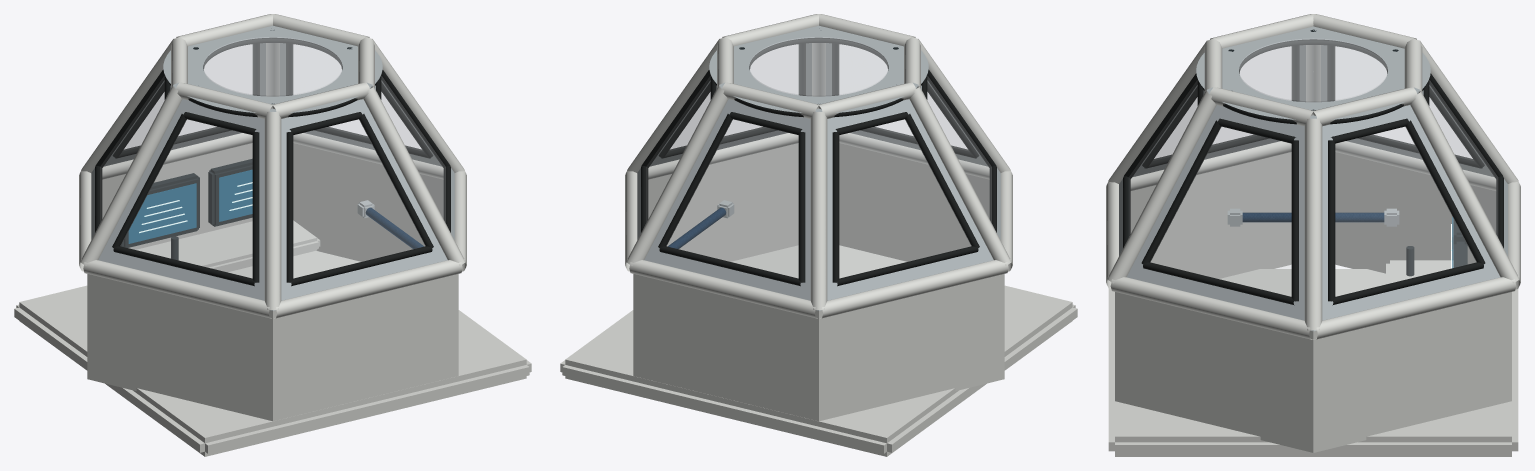
The model's file is cupola_optimized.glb.
The picture shows the model from 3 angles, left to right: view 1: azimuth 30°, elevation 25°; view 2: azimuth 150°, elevation 25°; view 3: azimuth 270°, elevation 25°; orthographic projection. The views are drawn at different scales.
Parts seen in each view (by area): view 1: cupola_interior; view 2: cupola_interior; view 3: cupola_interior.
Part boxes in pixels (x1,y1,x2,y2): cupola_interior: (14, 14, 531, 456); cupola_interior: (560, 14, 1077, 456); cupola_interior: (1106, 14, 1520, 456).
Bounding box in the file's own units: 2.54 × 1.84 × 2.23.
8 materials, 1 textured.
